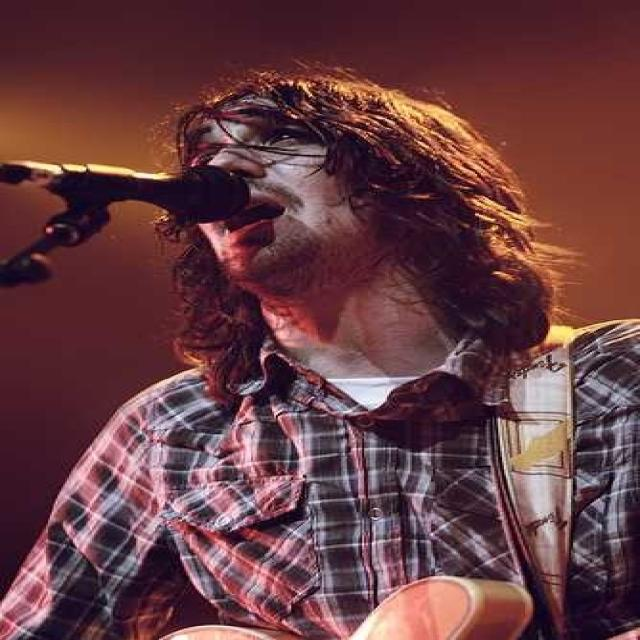microphone: (9, 157, 264, 225)
